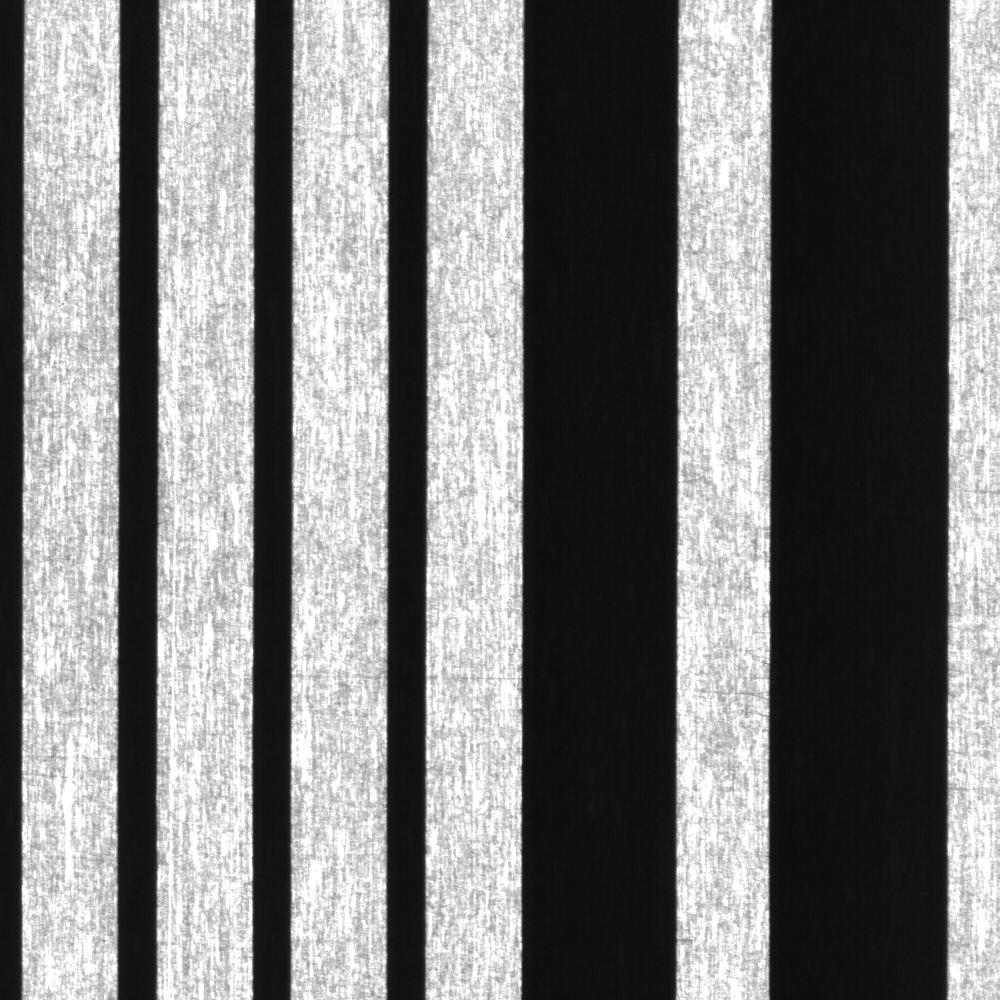Scar: (680, 660, 770, 726), (294, 653, 385, 694), (426, 660, 521, 695)
